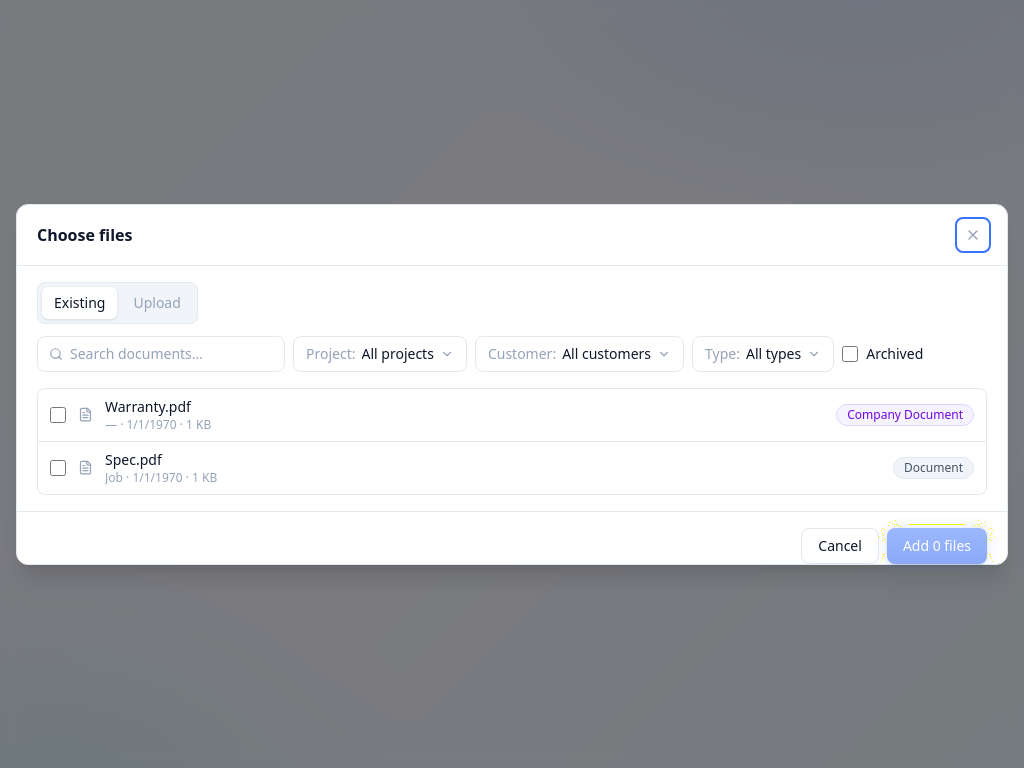
it: FilePickerModal — Upload tab › shows the tabs when given an upload config and opens on Existing by default
expect the text "Spec.pdf" is shown: met, box [105, 450, 162, 468]
Click the tab "Upload". click: coordinates (157, 302)
box: [121, 286, 193, 318]
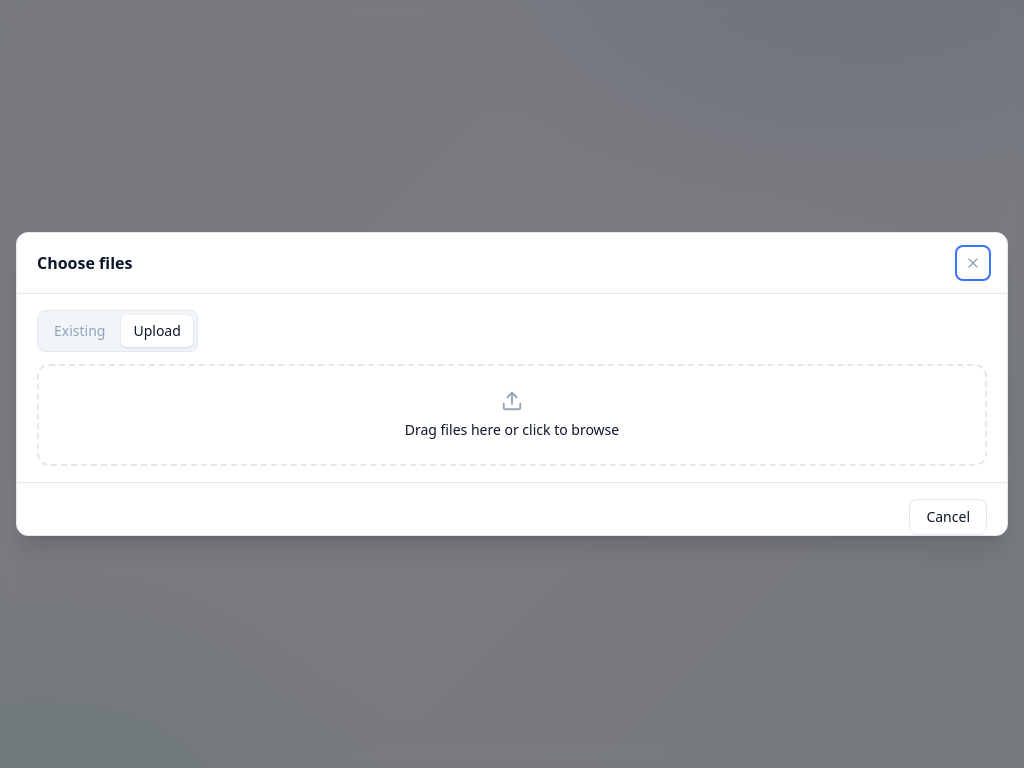
expect the element with test id "picker-upload-panel" is shown: met, box [37, 364, 987, 466]
